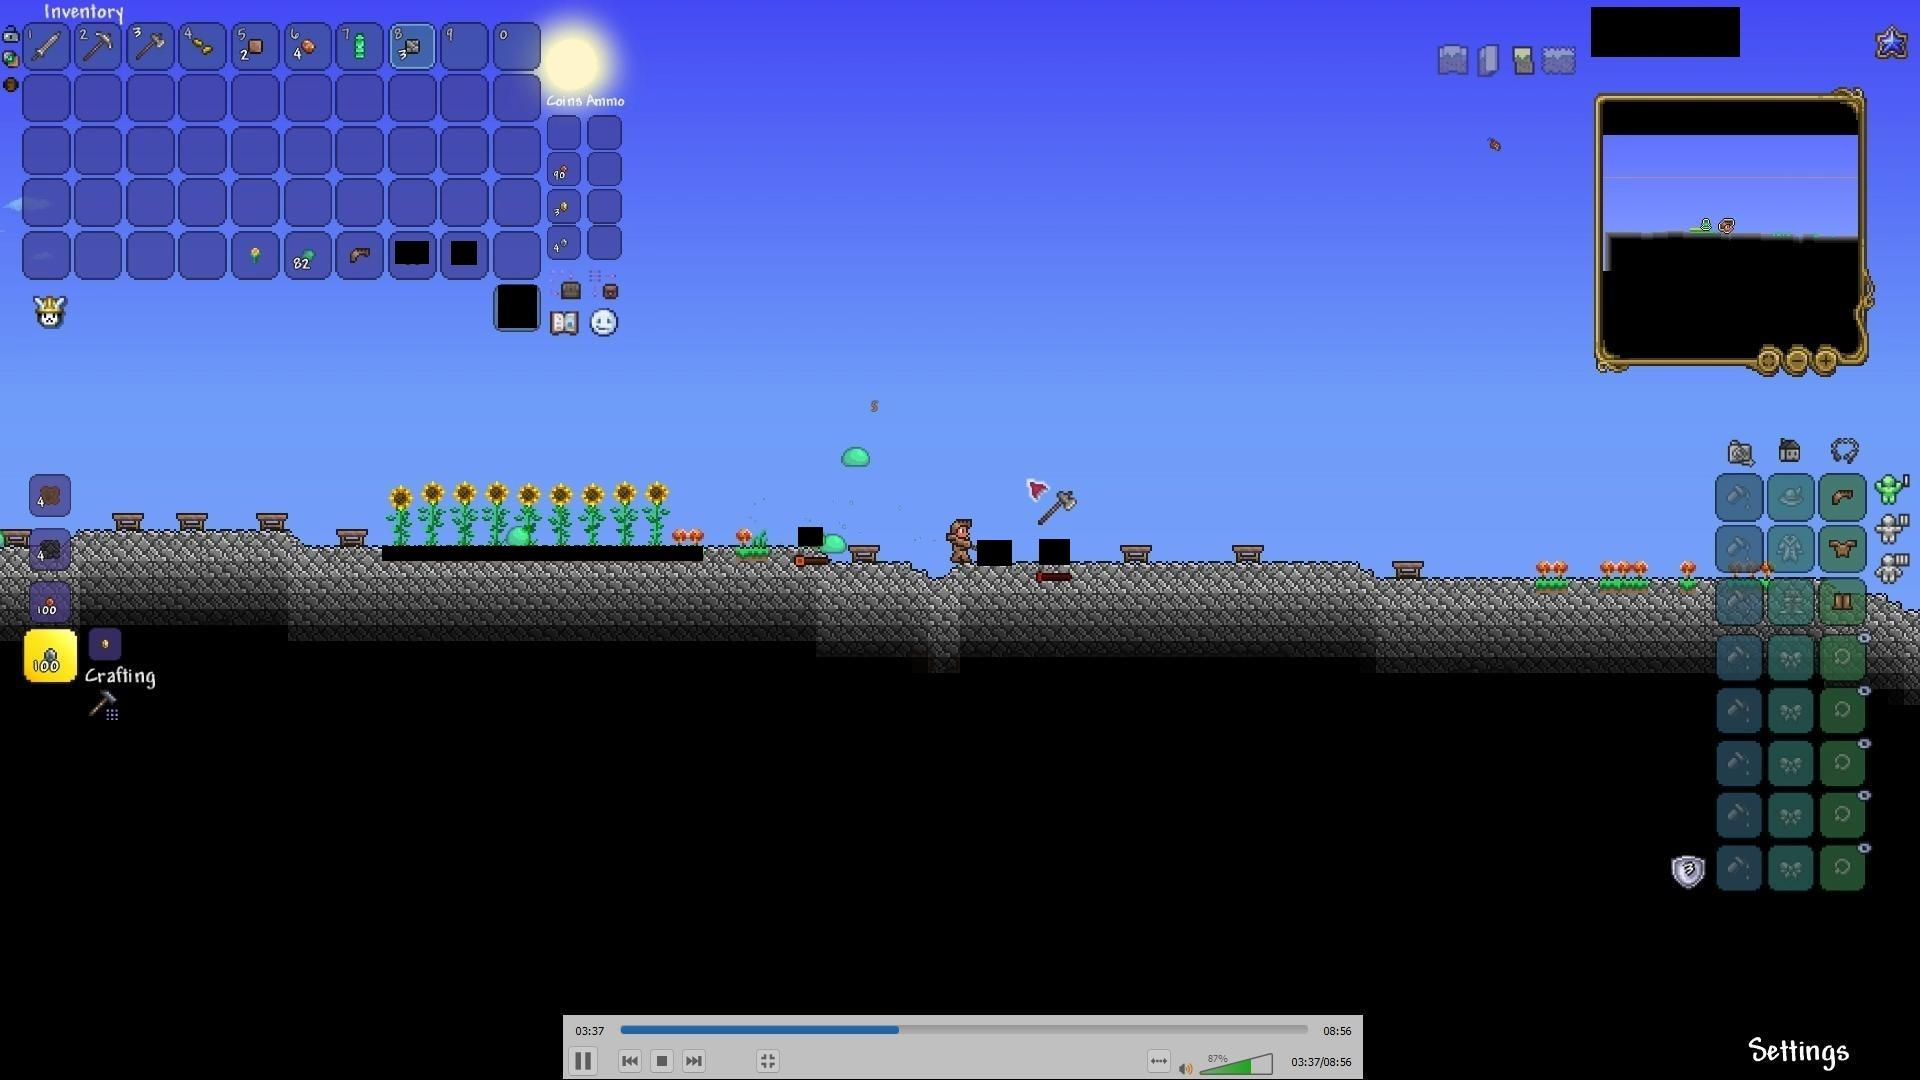breastplate: (1830, 537, 1859, 558)
dirt: (1600, 575, 1647, 592), (736, 545, 767, 562), (1536, 578, 1567, 595)
helmet: (1829, 484, 1857, 509), (347, 243, 375, 268)
legs: (1833, 588, 1858, 616)
slime: (841, 443, 873, 472), (823, 534, 848, 554), (506, 526, 531, 546)
workbench: (336, 525, 371, 550), (255, 512, 289, 535), (112, 506, 145, 530), (848, 542, 880, 566), (1393, 559, 1424, 583), (1120, 545, 1151, 568), (175, 509, 207, 531), (1232, 545, 1263, 567), (1, 526, 26, 553)
